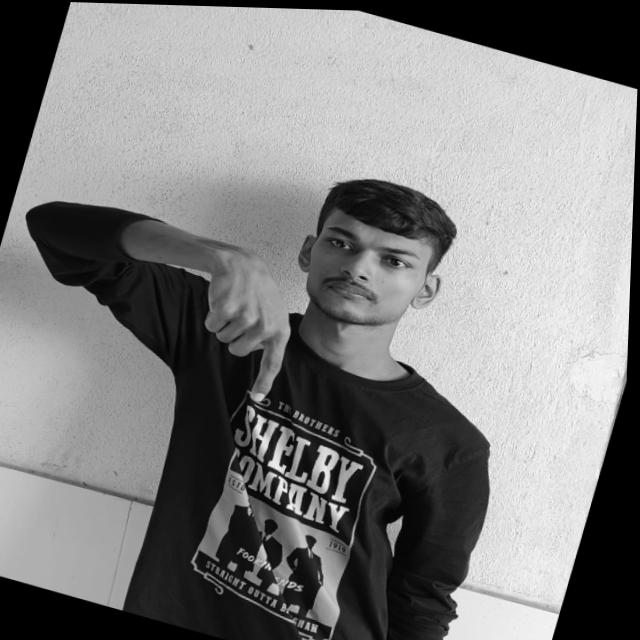Now: (183, 244, 316, 408)
